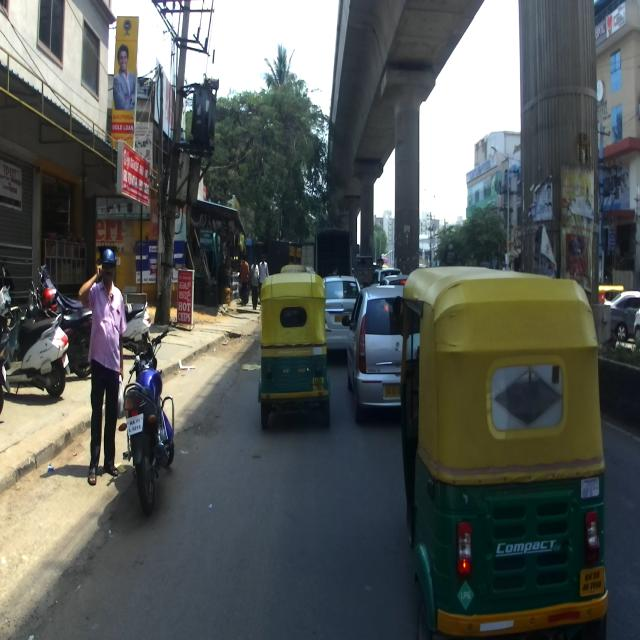auto ahead at: (399, 265, 614, 640), (258, 267, 330, 415)
electric pole ahead at: (159, 0, 215, 318)
motorcycle ahead at: (123, 328, 180, 526), (0, 293, 74, 398)
person ahead at: (86, 242, 121, 484)
